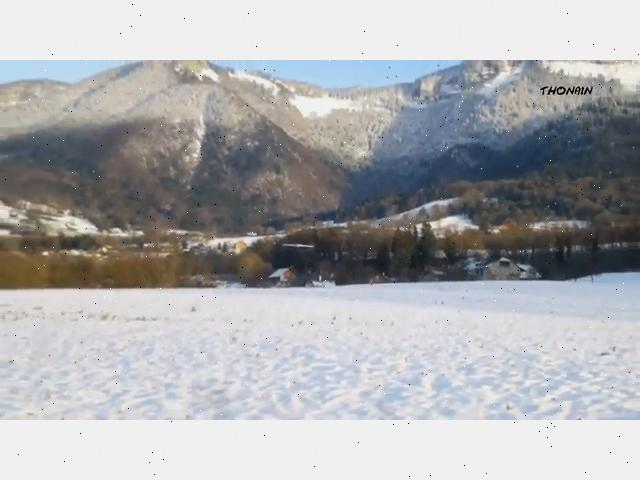Anti-Drone: (283, 243, 315, 247)
